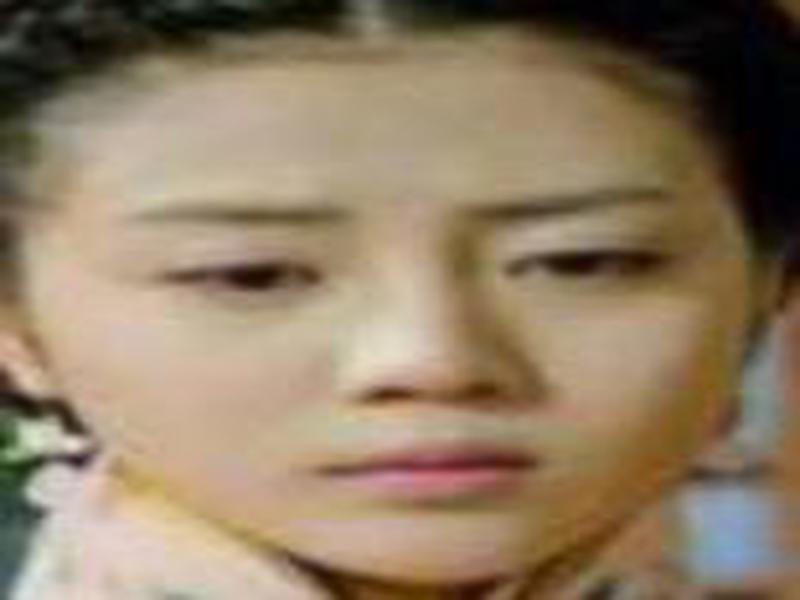without_mask: (34, 95, 751, 584)
